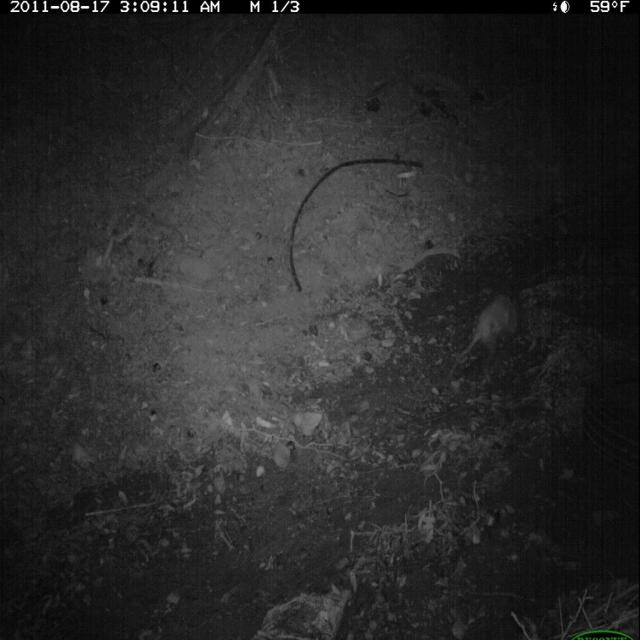opossum: (443, 287, 524, 391)
